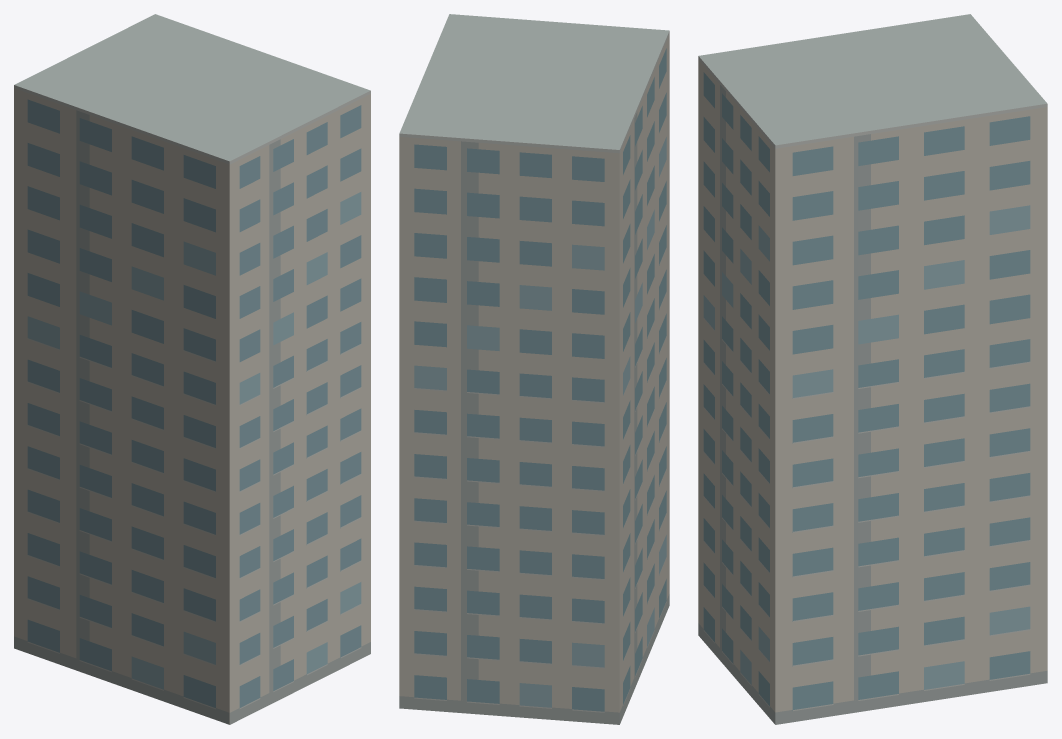
Rendered from residential-868bf6d7-6703-4299-9ea1-4cfa269590f4.glb.
The picture shows the model from 3 angles, left to right: view 1: azimuth 30°, elevation 25°; view 2: azimuth 150°, elevation 25°; view 3: azimuth 270°, elevation 25°; orthographic projection. The views are drawn at different scales.
Parts seen in each view (by area): view 1: residential-868bf6d7-6703-4299-9ea1-4cfa269590f4.tmp; view 2: residential-868bf6d7-6703-4299-9ea1-4cfa269590f4.tmp; view 3: residential-868bf6d7-6703-4299-9ea1-4cfa269590f4.tmp.
Part boxes in pixels (box(x1,y1,x2,y2)): residential-868bf6d7-6703-4299-9ea1-4cfa269590f4.tmp: box(14, 14, 370, 724); residential-868bf6d7-6703-4299-9ea1-4cfa269590f4.tmp: box(399, 14, 669, 724); residential-868bf6d7-6703-4299-9ea1-4cfa269590f4.tmp: box(698, 14, 1047, 724).
Bounding box in the file's own units: 20.92 × 43 × 23.49.
